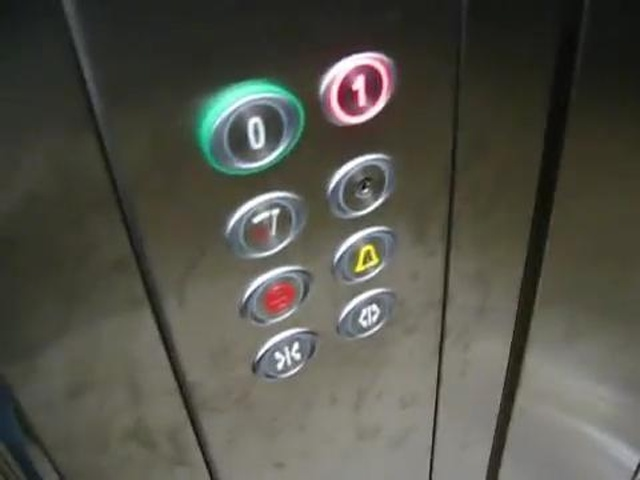0: (194, 77, 306, 176)
1: (317, 49, 401, 127)
alarm: (328, 225, 400, 288)
blur: (237, 265, 316, 327)
bt_keyhole: (327, 154, 398, 221)
close: (250, 327, 324, 382)
open: (333, 287, 402, 342)
unknown: (220, 187, 310, 258)
